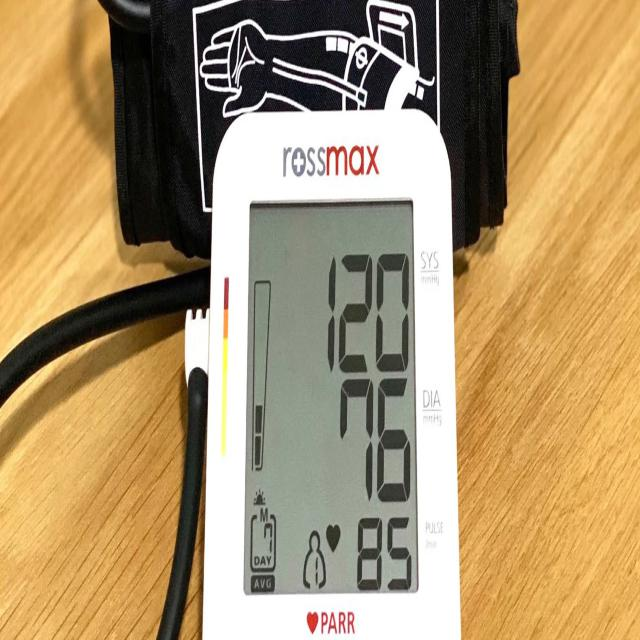dia: (337, 373, 412, 505)
pul: (352, 512, 416, 592)
ssd: (240, 199, 419, 595)
sys: (323, 240, 411, 377)
